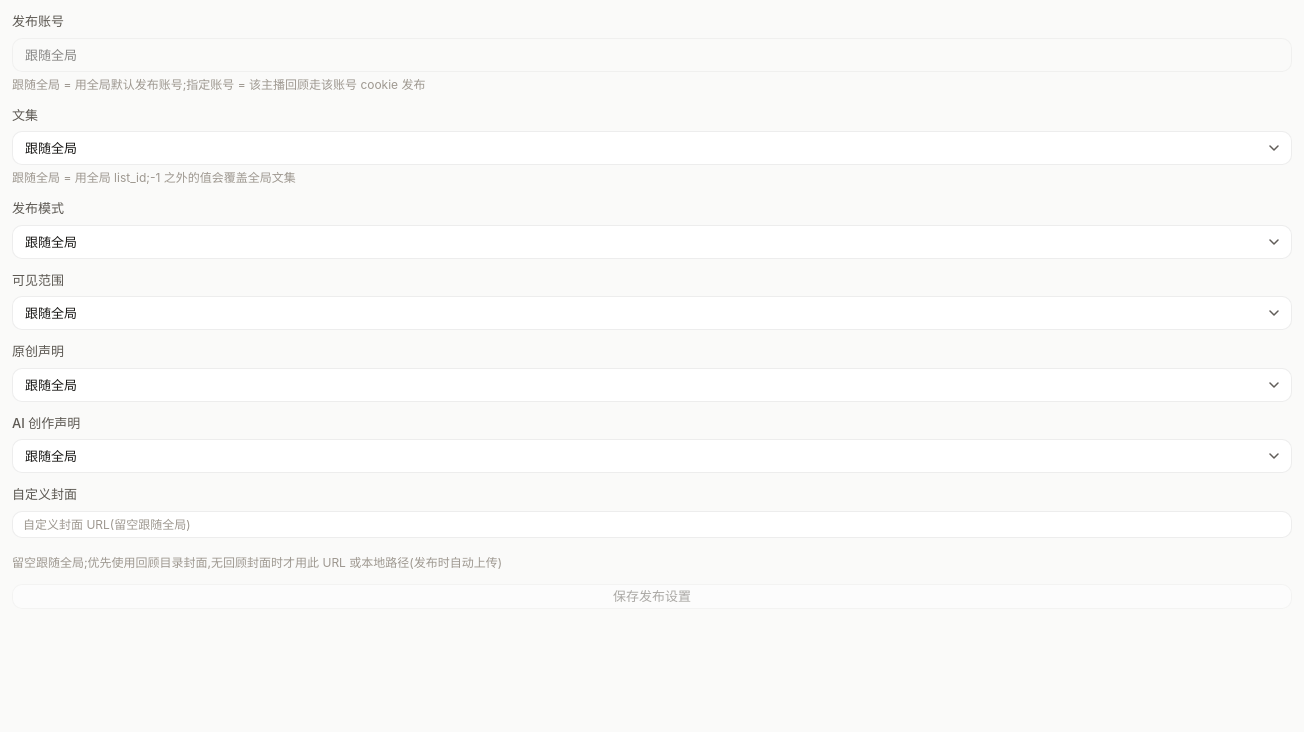
Test: ChannelPublishConfig › listBiliSeries 返回 error 时 seriesError 反映
Click the dropdown labelled "文集" at (652, 148), box [12,131,1292,165]
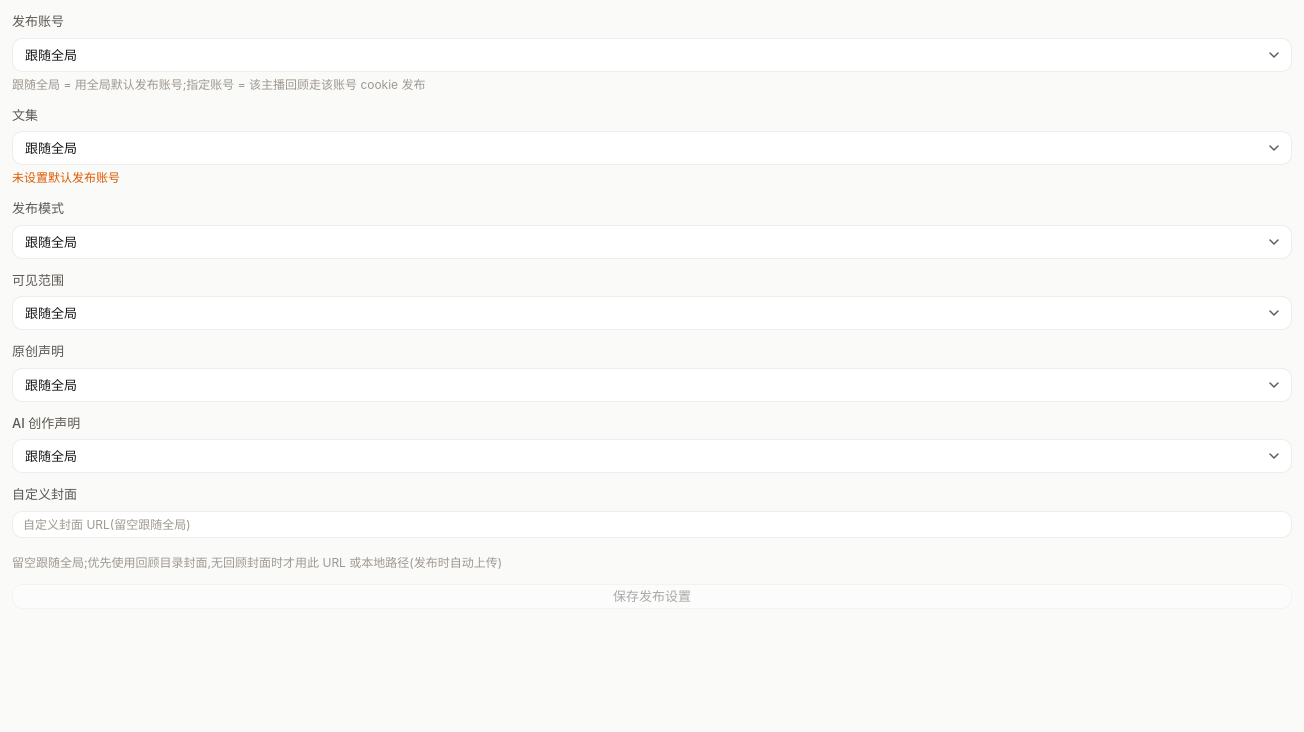
Result: the text "未设置默认发布账号" is shown at [12,170,120,185]
